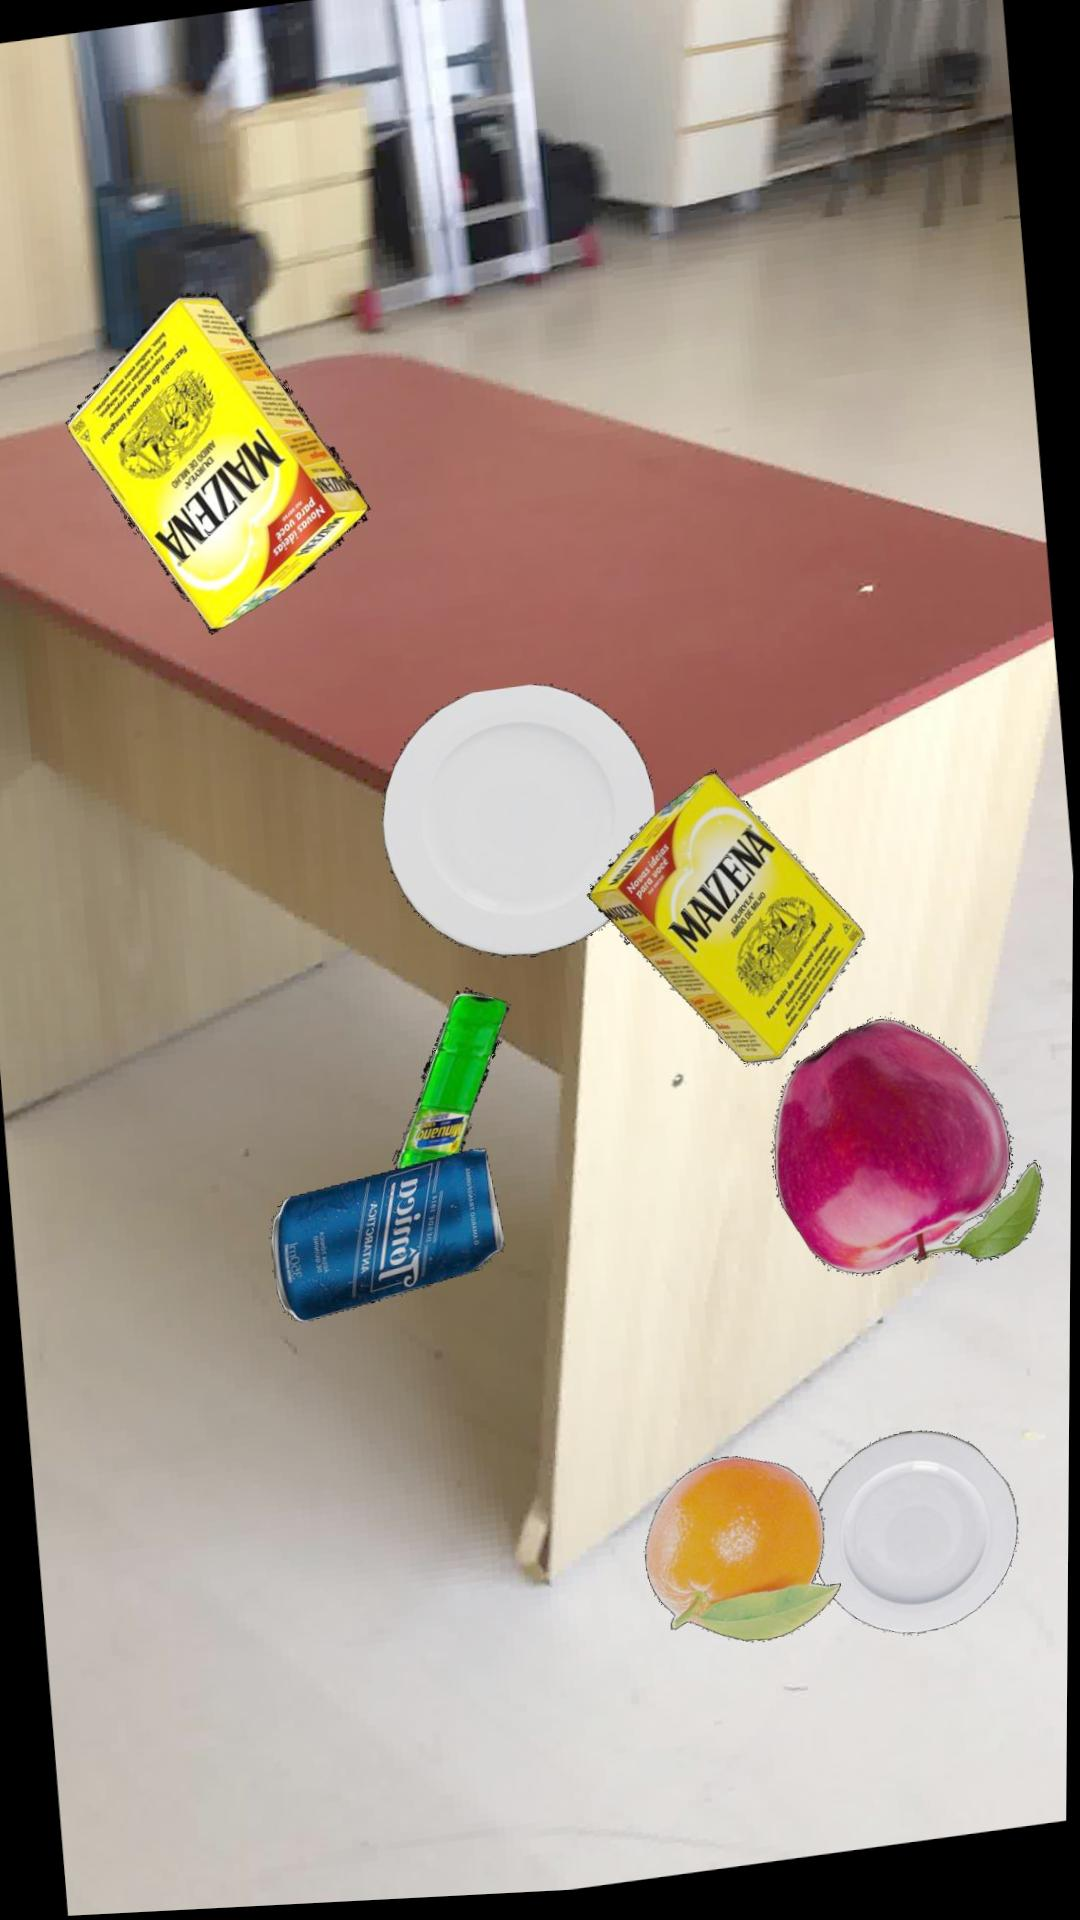apple: (775, 1027, 1047, 1284)
cleaner: (398, 993, 512, 1172)
orange: (649, 1462, 844, 1648)
plate: (384, 688, 657, 961), (822, 1440, 1022, 1642)
tonic: (273, 1153, 506, 1324)
